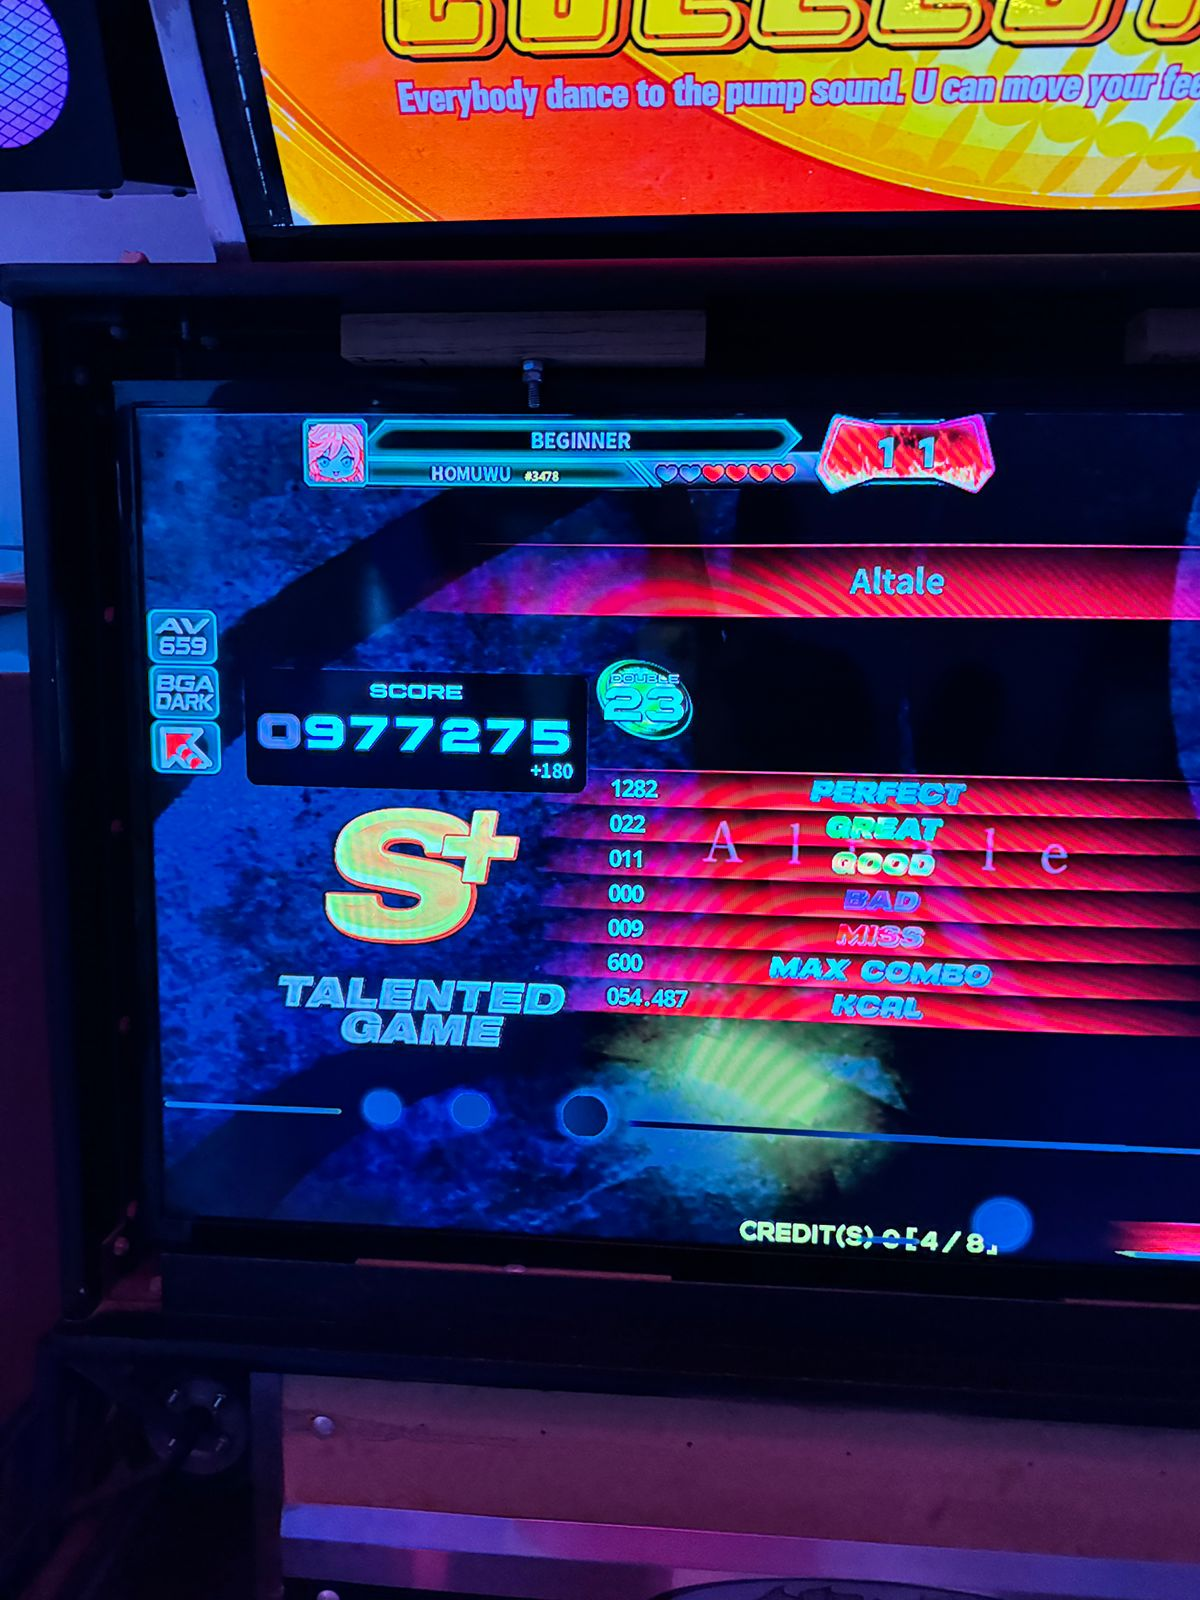difficulty: (596, 644, 710, 745)
fullscore: (55, 317, 1200, 1353)
rank: (294, 797, 546, 956)
score: (243, 673, 591, 766)
song_name: (681, 533, 1200, 636)
